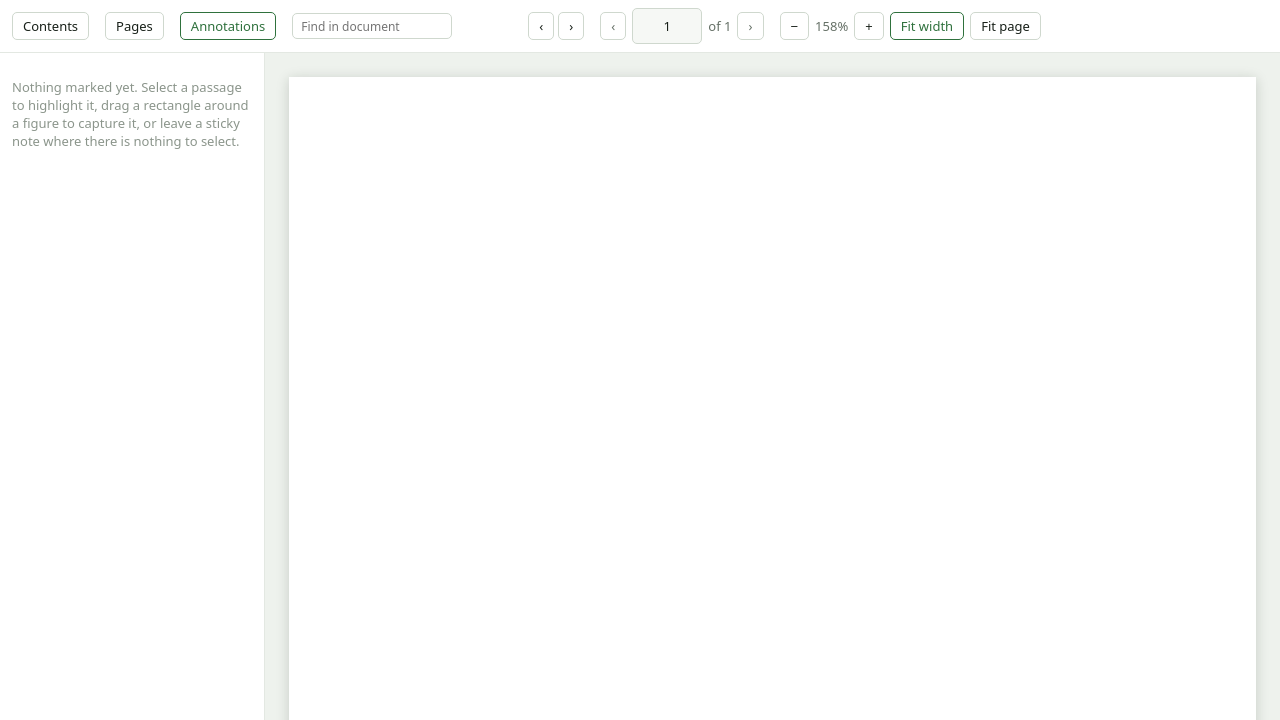
Test case: finding words in a document › wraps around at the end
Expected: the text "of 1" is shown, [708,17,732,35]
Type "aa" into the search field labelled "Find in document" at {"x": 372, "y": 26}, box [292,13,452,39]
Then press Enter
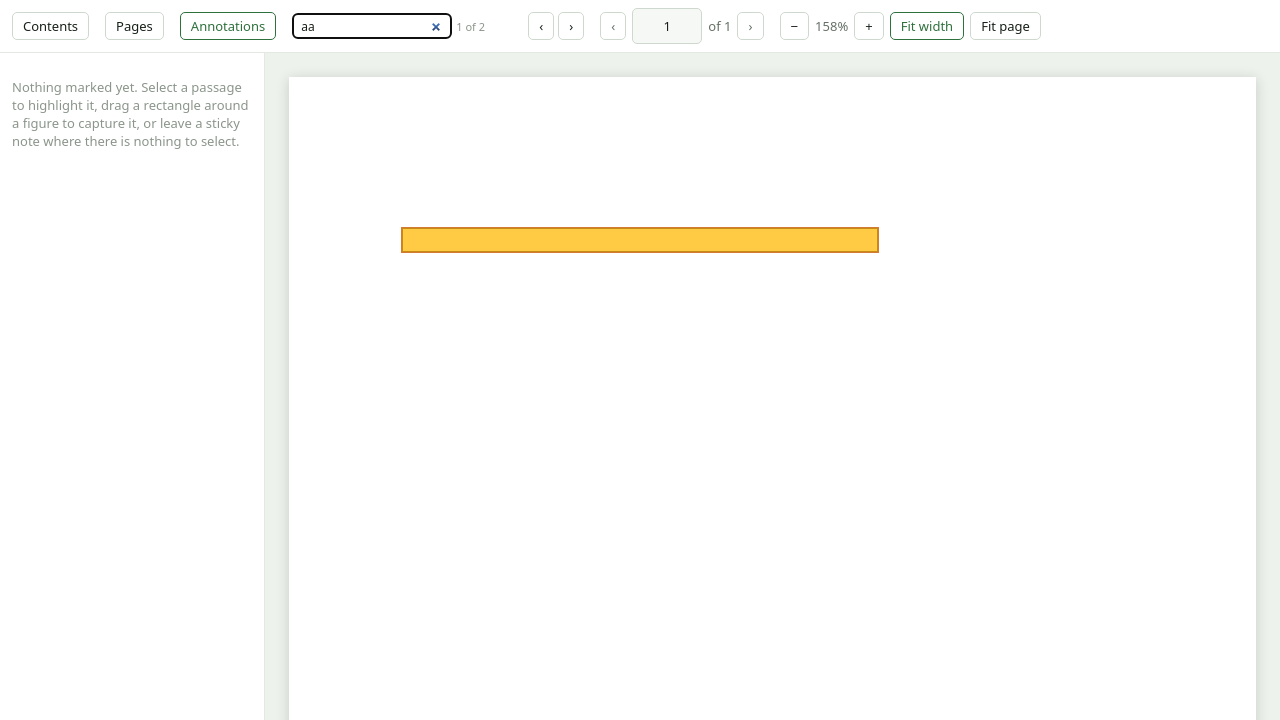
Expected: the text "1 of 2" is shown, [456,18,485,34]
Click the button named "Next match" at {"x": 571, "y": 26}, box [558,12,584,40]
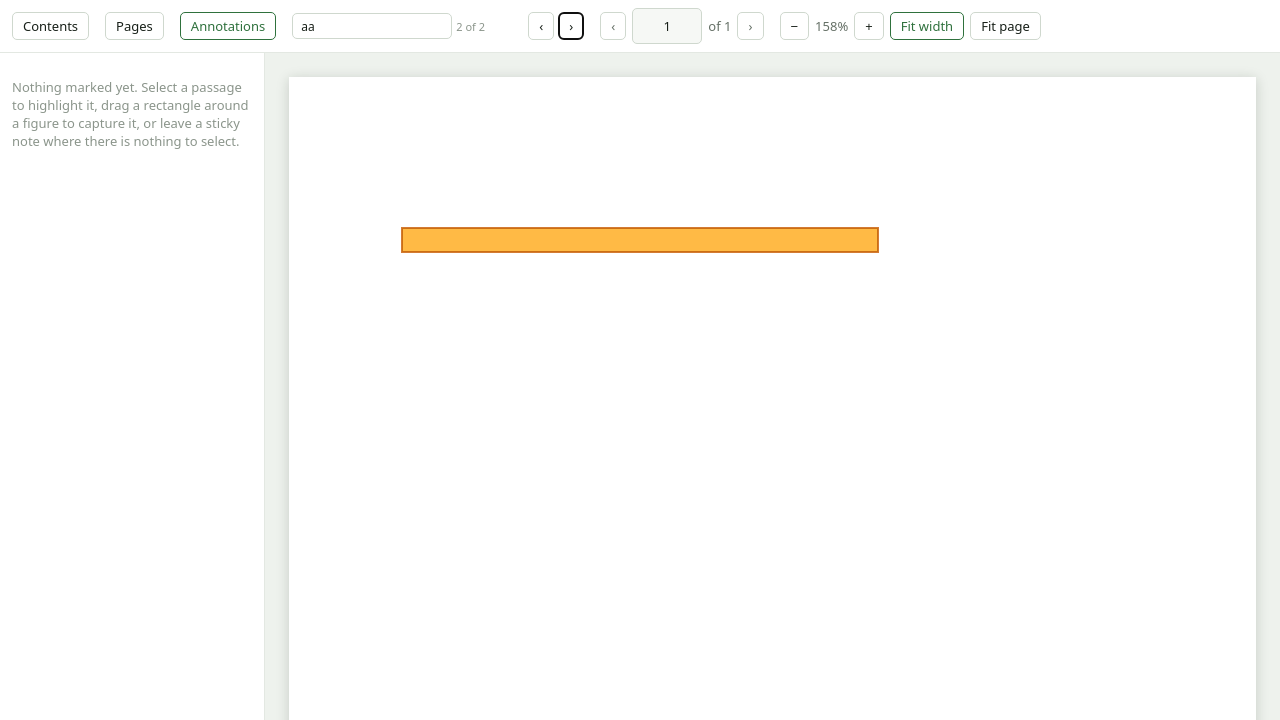
Expected: the text "2 of 2" is shown, [456,18,485,34]
Click the button named "Next match" at {"x": 571, "y": 26}, box [558,12,584,40]
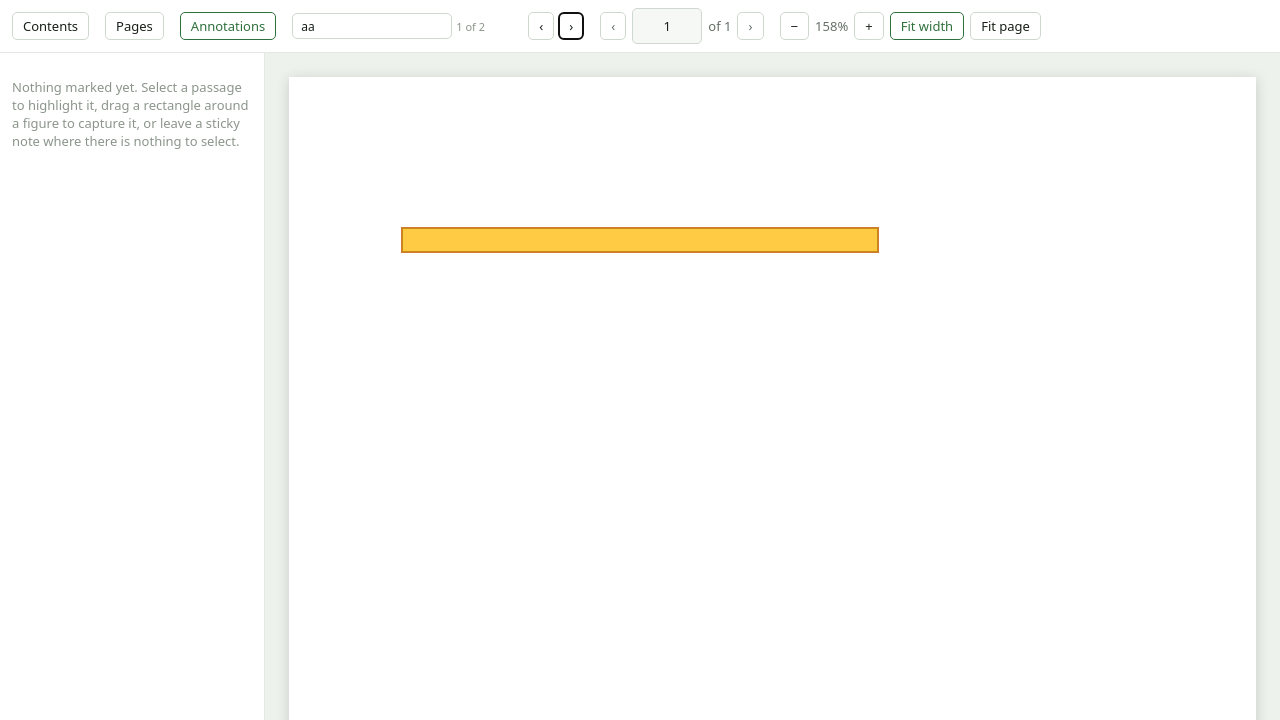
Expected: the text "1 of 2" is shown, [456,18,485,34]
